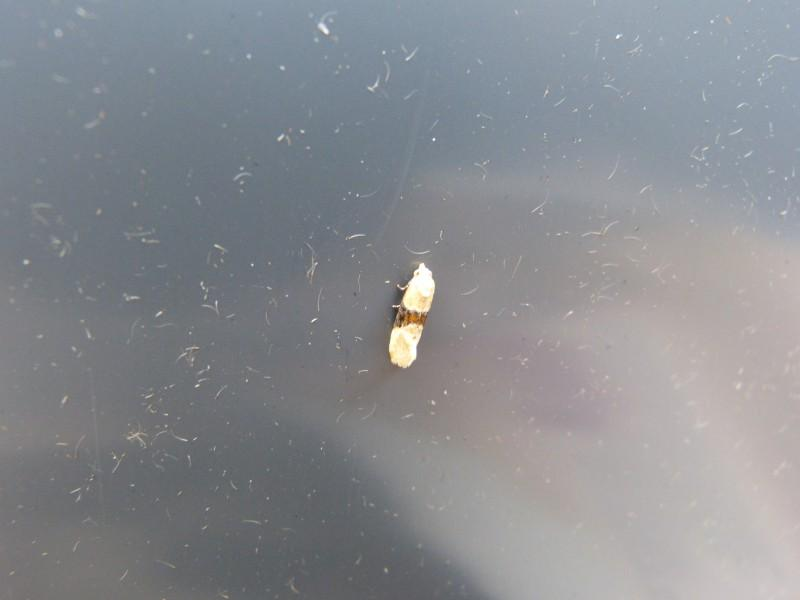Eupoecilia Ambiguella: (385, 260, 437, 371)
